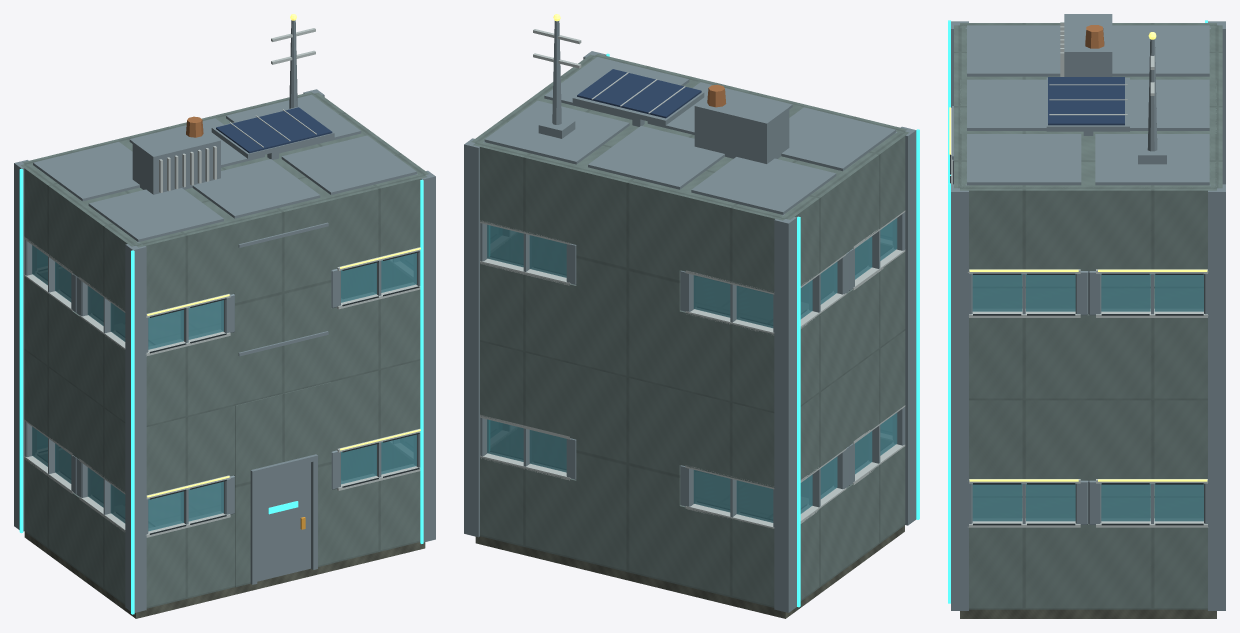
File: Habitat_7p2m.glb
3 renders of one model, left to right at view 1: azimuth 30°, elevation 25°; view 2: azimuth 150°, elevation 25°; view 3: azimuth 270°, elevation 25°, orthographic. The views are drawn at different scales.
Parts seen in each view (by area): view 1: Hab_Wall_Solid_2m.002, Hab_Wall_Window_2m.011, Hab_Wall_Window_2m.009, Hab_Wall_Window_2m.003, Hab_Wall_Window_2m.001, Hab_Wall_Door_2m.001, Hab_Wall_Window_2m.015, Hab_Wall_Window_2m.013, Hab_Wall_Window_2m.007, Hab_Wall_Window_2m.005, Hab_Pressure_Door.001, Hab_Heat_Exchanger.001 (+25 smaller); view 2: Hab_Wall_Solid_2m.003, Hab_Wall_Solid_2m.001, Hab_Wall_Window_2m.012, Hab_Wall_Window_2m.010, Hab_Wall_Window_2m.004, Hab_Wall_Window_2m.002, Hab_Wall_Window_2m.013, Hab_Wall_Window_2m.005, Hab_Wall_Window_2m.015, Hab_Wall_Window_2m.007, Hab_Heat_Exchanger.001, Hab_Roof_2m.004 (+24 smaller); view 3: Hab_Wall_Window_2m.014, Hab_Wall_Window_2m.016, Hab_Wall_Window_2m.006, Hab_Wall_Window_2m.008, Hab_Roof_2m.005, Hab_Roof_2m.006, Hab_Roof_2m.001, Hab_Roof_2m.002, Hab_Roof_2m.003, Hab_Solar_Array.001, Hab_Roof_2m.004, Hab_Corner_3p6m.007 (+19 smaller).
Boxes of the visible parts, x1,y1,x2,y2 form: Hab_Wall_Solid_2m.002: (230,197,331,405); Hab_Wall_Window_2m.011: (327,173,427,381); Hab_Wall_Window_2m.009: (134,220,234,426); Hab_Wall_Window_2m.003: (331,360,420,563); Hab_Wall_Window_2m.001: (146,405,234,608); Hab_Wall_Door_2m.001: (234,382,331,587); Hab_Wall_Window_2m.015: (21,164,83,387); Hab_Wall_Window_2m.013: (76,204,139,423); Hab_Wall_Window_2m.007: (24,350,76,568); Hab_Wall_Window_2m.005: (76,388,125,604); Hab_Pressure_Door.001: (257,462,310,581); Hab_Heat_Exchanger.001: (132,116,220,194); Hab_Wall_Solid_2m.003: (576,166,684,389); Hab_Wall_Solid_2m.001: (576,365,680,584); Hab_Wall_Window_2m.012: (473,141,580,364); Hab_Wall_Window_2m.010: (679,191,786,412); Hab_Wall_Window_2m.004: (480,341,576,559); Hab_Wall_Window_2m.002: (679,390,774,607); Hab_Wall_Window_2m.013: (841,131,909,370); Hab_Wall_Window_2m.005: (849,331,905,565); Hab_Wall_Window_2m.015: (781,174,849,406); Hab_Wall_Window_2m.007: (800,371,849,601); Hab_Heat_Exchanger.001: (694,84,789,163); Hab_Roof_2m.004: (582,125,730,192); Hab_Wall_Window_2m.014: (960,185,1088,400); Hab_Wall_Window_2m.016: (1088,185,1216,400); Hab_Wall_Window_2m.006: (968,400,1088,609); Hab_Wall_Window_2m.008: (1088,400,1208,609); Hab_Roof_2m.005: (960,134,1088,187); Hab_Roof_2m.006: (1088,134,1216,187); Hab_Roof_2m.001: (965,25,1060,79); Hab_Roof_2m.002: (1112,25,1210,79); Hab_Roof_2m.003: (960,79,1083,133); Hab_Solar_Array.001: (1046,77,1129,135); Hab_Roof_2m.004: (1093,79,1216,133); Hab_Corner_3p6m.007: (948,183,968,401).
Bounding box in the file's own units: 6.35 × 9.61 × 4.32.
Materials: 11 (2 with a texture image).
